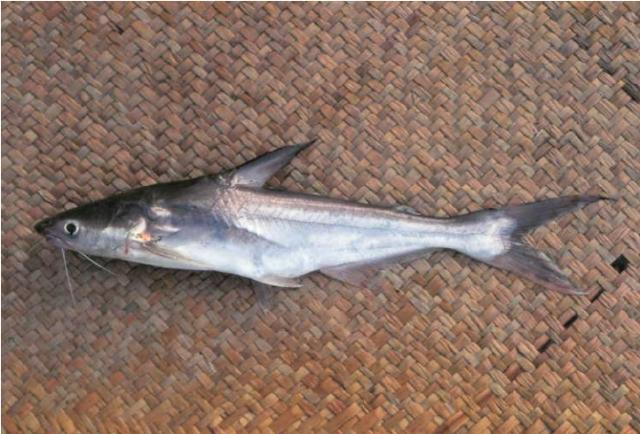Mulut: (32, 211, 74, 253)
Sirip Anal: (318, 250, 458, 292)
Sirip Dada: (136, 221, 200, 279)
Sirip Ekor: (491, 191, 617, 305)
Sirip Perut: (243, 267, 305, 316)
Sirip Punggung: (236, 134, 322, 194)
